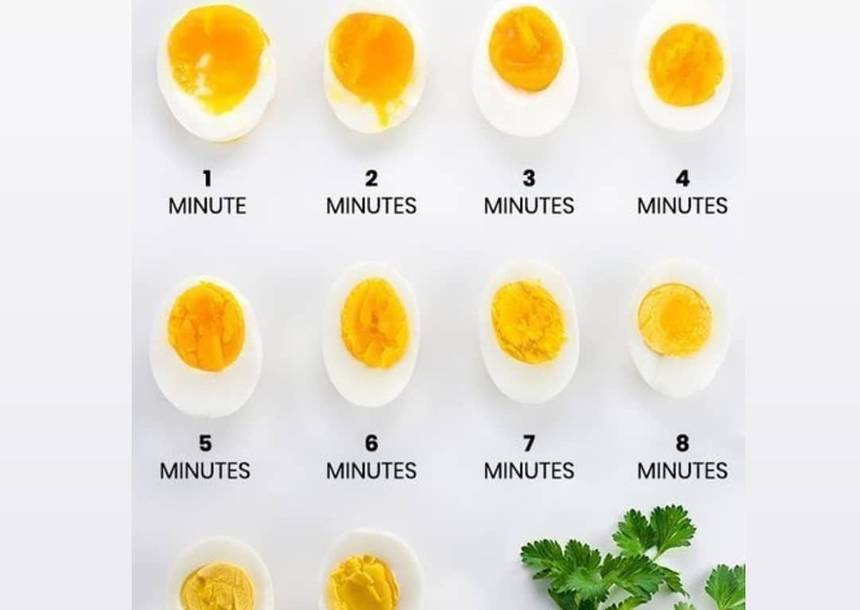Telur: (279, 280, 426, 438), (146, 16, 301, 155), (459, 16, 595, 144), (626, 267, 739, 418), (311, 15, 440, 133), (473, 274, 580, 394), (616, 21, 713, 134), (327, 505, 431, 610), (174, 521, 285, 610), (181, 275, 256, 403)
